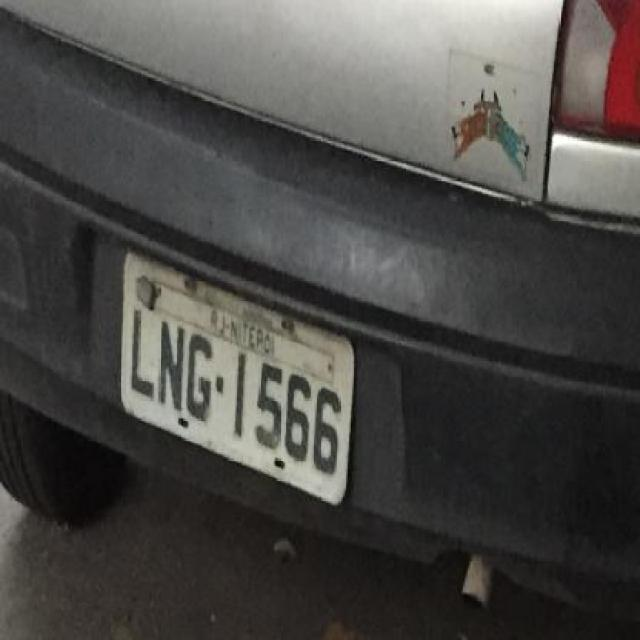old_plate: (112, 244, 364, 516)
